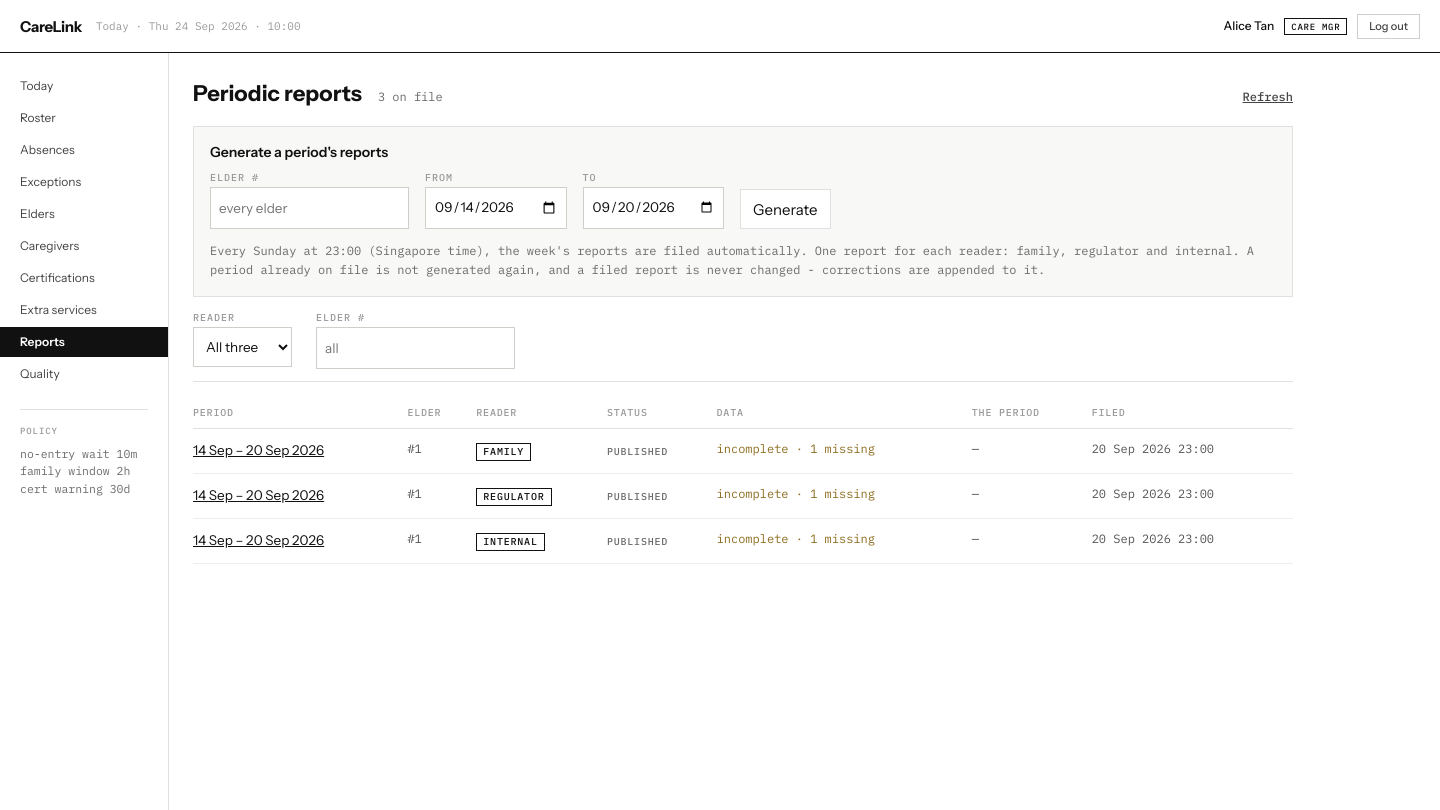
Test case: the report list › narrows the list to one reader
Expected: the number of rows is 4, 193,398 -> 1293,428; 193,428 -> 1293,473; 193,473 -> 1293,518; 193,518 -> 1293,563
Select "Regulator" in the dropdown labelled "Reader": x=242, y=347 193,327 -> 292,367
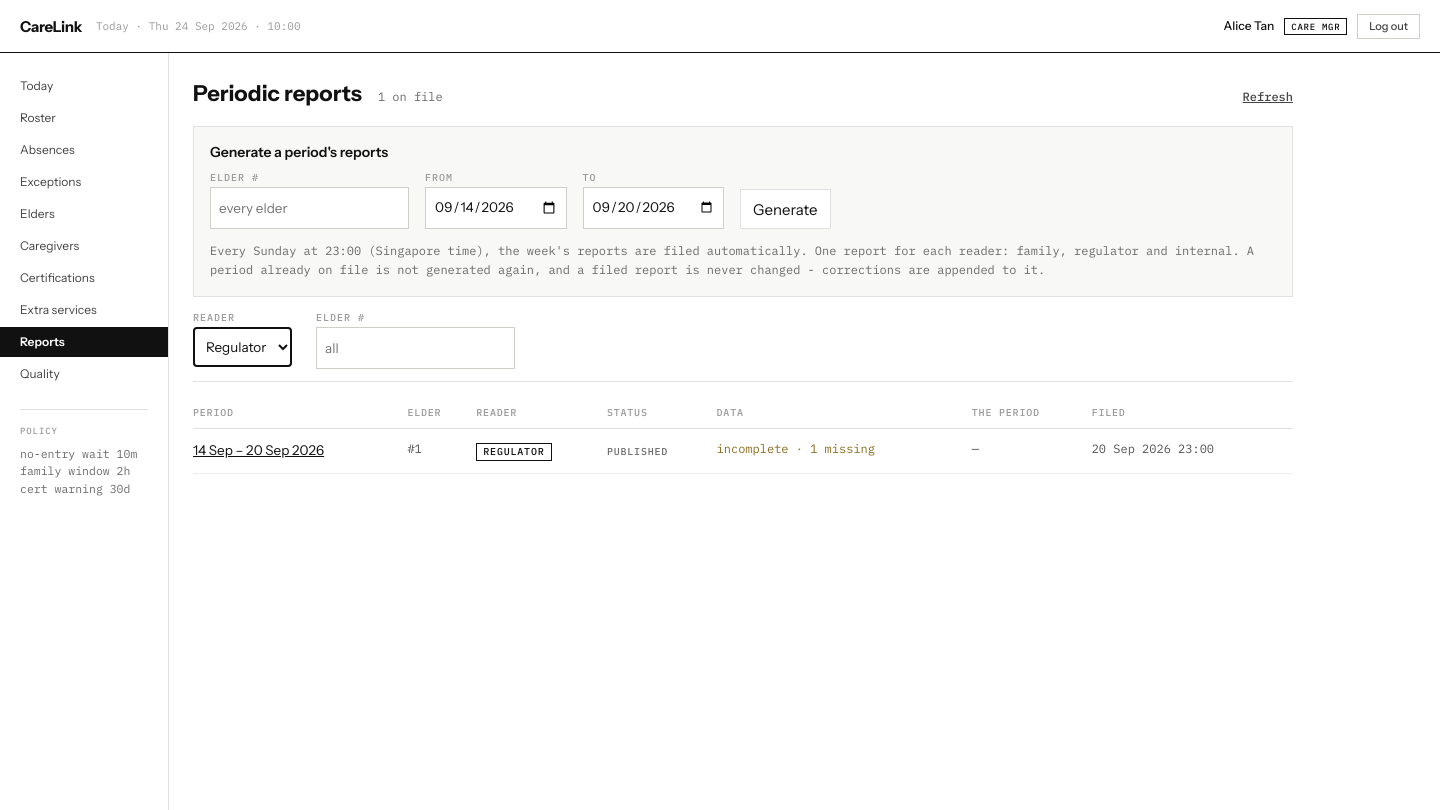
Expected: the text "Regulator" is shown, 476,443 -> 552,461
Now the number of rows is 2, box 193,398 -> 1293,428; 193,428 -> 1293,473
